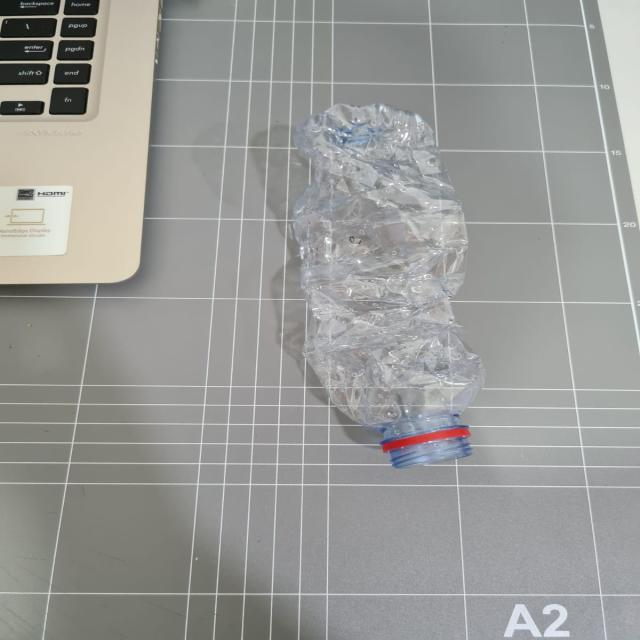bottle: (299, 99, 503, 472)
